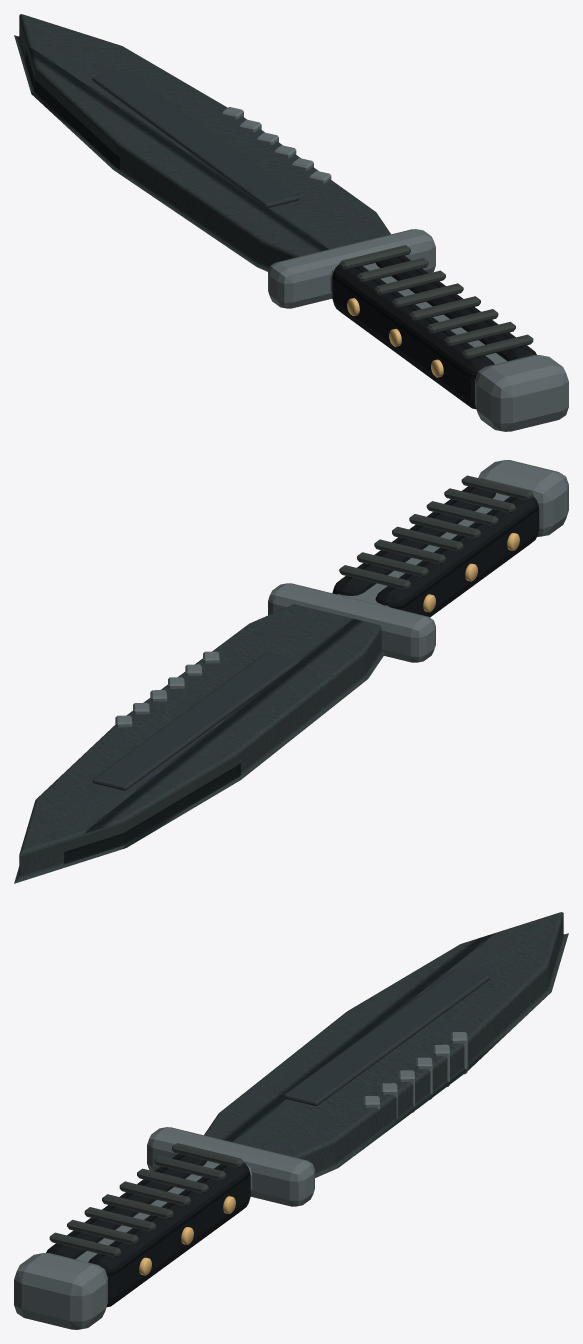
The model's file is pass65-field-knife-fp-lod0.glb.
3 renders of one model, top to bottom at view 1: azimuth 30°, elevation 25°; view 2: azimuth 150°, elevation 25°; view 3: azimuth 330°, elevation 25°, orthographic.
Visible parts, largest first — view 1: FieldKnife_Blade_fp-lod0_Mesh, Cube_001.002, field-knife-fuller, Cube_001.017, Cube, Cube_001.001, Cube_001, Cube_001.005, Cube_001.008, Cube_001.010, Cube_001.006, Cube_001.009 (+3 smaller); view 2: FieldKnife_Blade_fp-lod0_Mesh, Cube_001.002, field-knife-fuller, Cube, Cube_001.017, Cube_001.001, Cube_001, Cube_001.010, Cube_001.003, Cube_001.008, Cube_001.005, Cube_001.006 (+3 smaller); view 3: FieldKnife_Blade_fp-lod0_Mesh, Cube_001.001, field-knife-fuller, Cube_001.017, Cube, Cube_001.002, Cube_001, Cube_001.008, Cube_001.005, Cube_001.010, Cube_001.006, Cube_001.007 (+3 smaller).
Part boxes in pixels (x1,y1,x2,y2): FieldKnife_Blade_fp-lod0_Mesh: (14, 14, 390, 271); Cube_001.002: (332, 265, 494, 409); field-knife-fuller: (92, 70, 299, 207); Cube_001.017: (475, 355, 568, 431); Cube: (268, 229, 435, 308); Cube_001.001: (376, 256, 536, 361); Cube_001: (330, 263, 506, 364); Cube_001.005: (374, 270, 445, 295); Cube_001.008: (426, 309, 498, 334); Cube_001.010: (461, 334, 533, 359); Cube_001.006: (392, 283, 463, 308); Cube_001.009: (444, 321, 515, 346); FieldKnife_Blade_fp-lod0_Mesh: (14, 604, 385, 883); Cube_001.002: (375, 496, 539, 617); field-knife-fuller: (92, 652, 299, 790); Cube: (268, 583, 435, 662); Cube_001.017: (478, 460, 568, 536); Cube_001.001: (332, 486, 495, 595); Cube_001: (337, 493, 539, 607); Cube_001.010: (461, 475, 533, 500); Cube_001.003: (339, 565, 410, 590); Cube_001.008: (426, 501, 498, 526); Cube_001.005: (374, 539, 445, 564); Cube_001.006: (392, 526, 463, 551); FieldKnife_Blade_fp-lod0_Mesh: (204, 912, 568, 1177); Cube_001.001: (88, 1163, 250, 1307); field-knife-fuller: (283, 968, 490, 1105); Cube_001.017: (14, 1253, 107, 1329); Cube: (147, 1127, 314, 1206); Cube_001.002: (46, 1154, 206, 1259); Cube_001: (76, 1161, 252, 1262); Cube_001.008: (84, 1207, 156, 1232); Cube_001.005: (137, 1168, 208, 1193); Cube_001.010: (49, 1232, 121, 1257); Cube_001.006: (119, 1181, 190, 1206); Cube_001.007: (102, 1194, 173, 1219).
Size of the model in its own units: 0.39 by 0.141 by 2.25.
6 materials, 2 textured.
